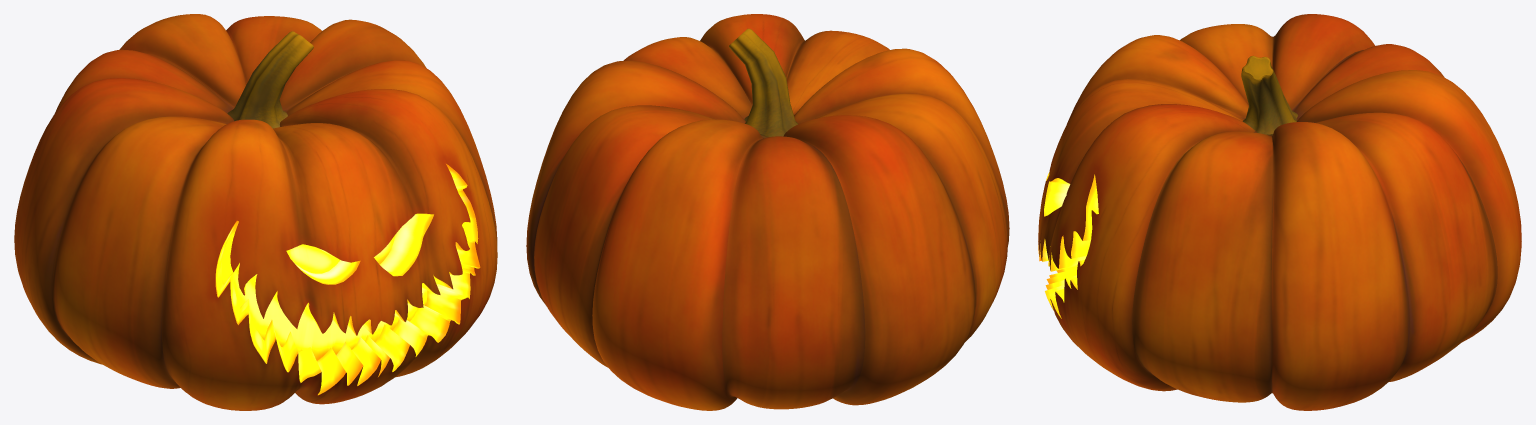
3 views of the same model, side by side, from view 1: azimuth 30°, elevation 25°; view 2: azimuth 150°, elevation 25°; view 3: azimuth 270°, elevation 25° (orthographic).
Parts seen in each view (by area): view 1: Pumpkin; view 2: Pumpkin; view 3: Pumpkin.
Part boxes in pixels (x1,y1,x2,y2): Pumpkin: (14, 14, 497, 410); Pumpkin: (526, 14, 1009, 410); Pumpkin: (1038, 14, 1521, 410).
Size of the model in its own units: 269 by 191 by 269.
1 material, 1 textured.
